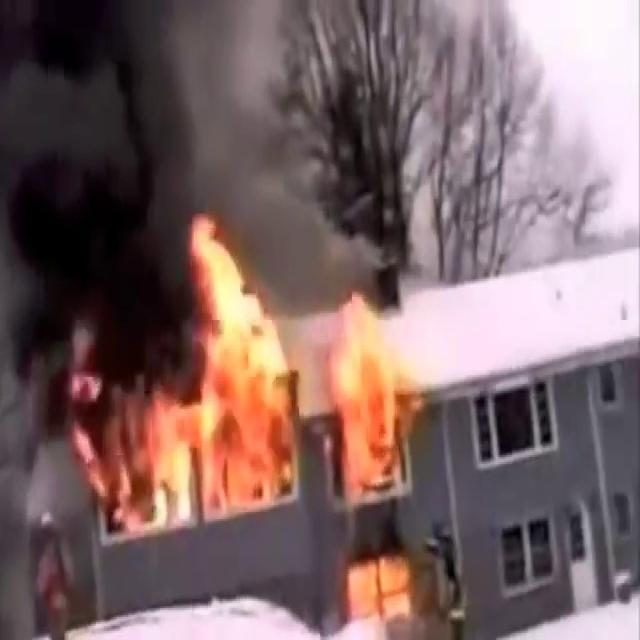Fire: (91, 214, 308, 544), (328, 282, 408, 510)
Smoke: (0, 0, 212, 423)
